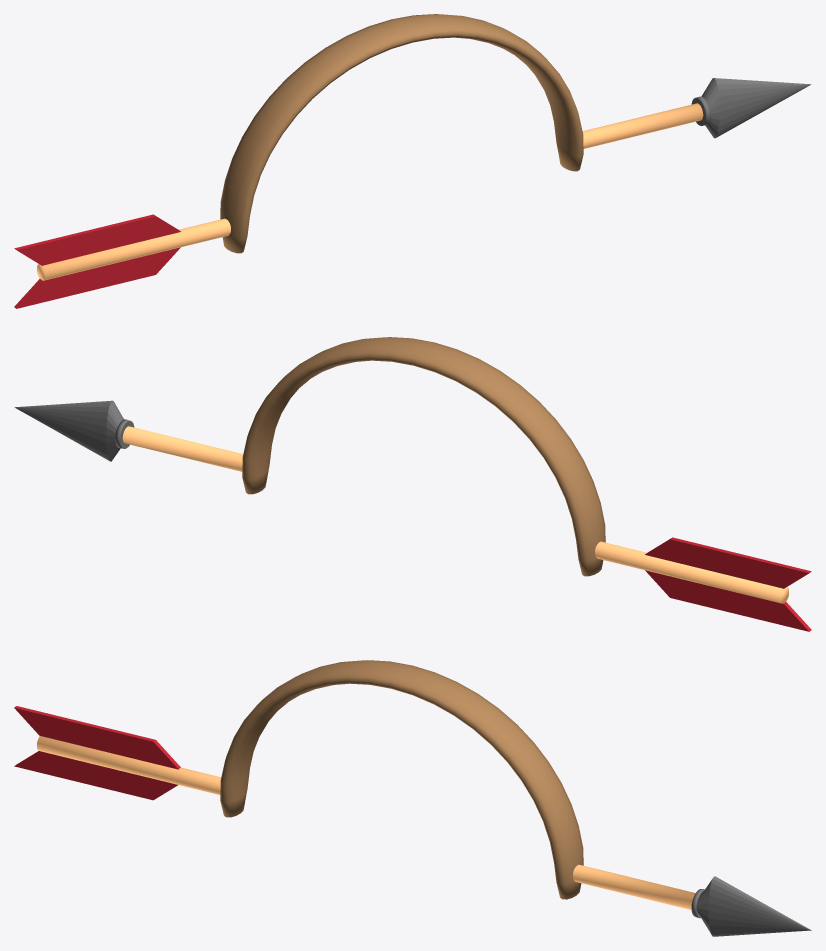
Rendered from Hat_Arrowband.fbx.
3 renders of one model, top to bottom at view 1: azimuth 30°, elevation 25°; view 2: azimuth 150°, elevation 25°; view 3: azimuth 330°, elevation 25°, orthographic.
Parts seen in each view (by area): view 1: Arrowband; view 2: Arrowband; view 3: Arrowband.
Boxes of the visible parts, <box> form: Arrowband: <box>14,14,811,308</box>; Arrowband: <box>14,337,811,631</box>; Arrowband: <box>14,660,811,936</box>.
Size of the model in its own units: 711 by 163 by 37.5.
